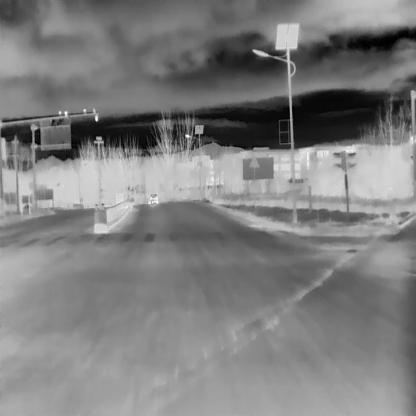car: (147, 192, 159, 204)
